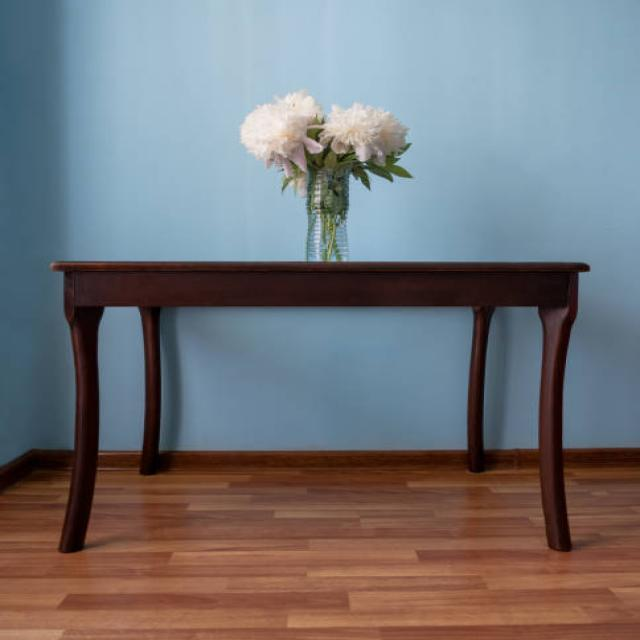table: (49, 260, 590, 554)
